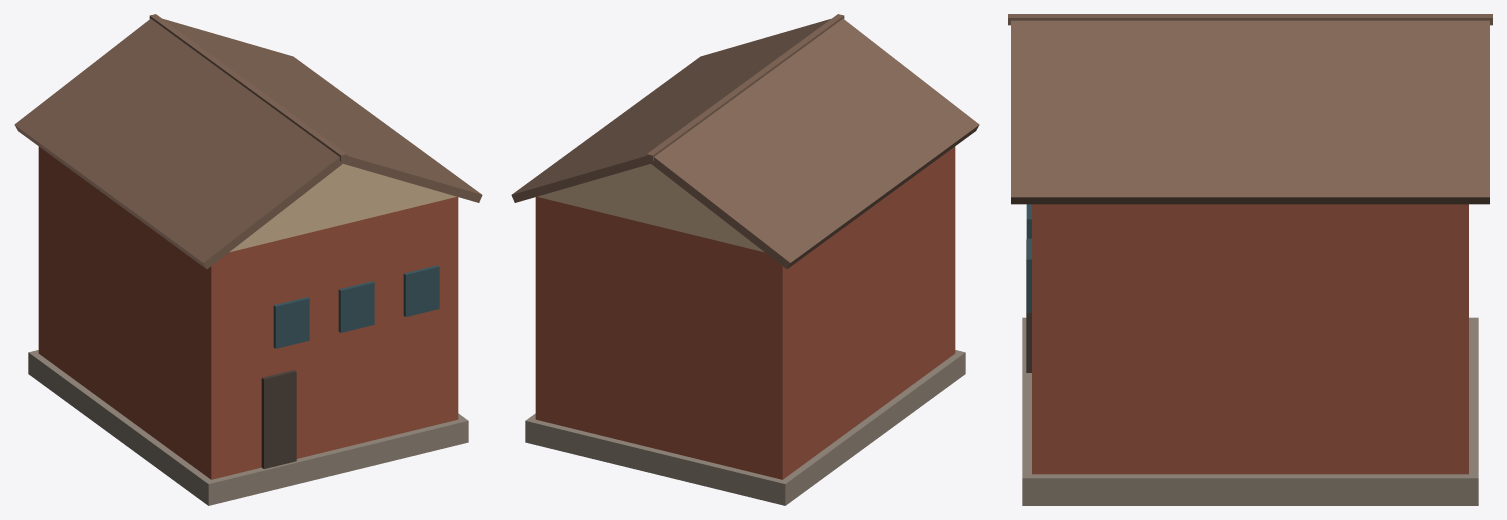
The model's file is arizona-brick-house_lod1.glb.
The picture shows the model from 3 angles, left to right: view 1: azimuth 30°, elevation 25°; view 2: azimuth 150°, elevation 25°; view 3: azimuth 270°, elevation 25°; orthographic projection. The views are drawn at different scales.
Parts seen in each view (by area): view 1: RF_AZ_Brick_Walls, RF_AZ_Brick_RoofLeft, RF_AZ_Brick_RoofRight, RF_AZ_Brick_Foundation, RF_AZ_Brick_Gable, RF_AZ_Brick_Door, RF_AZ_Brick_Ridge, RF_AZ_Brick_Window.001, RF_AZ_Brick_Window.002, RF_AZ_Brick_Window; view 2: RF_AZ_Brick_Walls, RF_AZ_Brick_RoofLeft, RF_AZ_Brick_RoofRight, RF_AZ_Brick_Foundation, RF_AZ_Brick_Gable.001, RF_AZ_Brick_Ridge; view 3: RF_AZ_Brick_Walls, RF_AZ_Brick_RoofRight, RF_AZ_Brick_Foundation, RF_AZ_Brick_Ridge.
Part boxes in pixels (x1,y1,x2,y2): RF_AZ_Brick_Walls: [38, 146, 458, 479]; RF_AZ_Brick_RoofLeft: [14, 19, 344, 268]; RF_AZ_Brick_RoofRight: [163, 19, 482, 202]; RF_AZ_Brick_Foundation: [28, 350, 468, 505]; RF_AZ_Brick_Gable: [229, 164, 456, 252]; RF_AZ_Brick_Door: [261, 370, 296, 468]; RF_AZ_Brick_Ridge: [149, 14, 347, 161]; RF_AZ_Brick_Window.001: [338, 281, 374, 332]; RF_AZ_Brick_Window.002: [403, 265, 439, 316]; RF_AZ_Brick_Window: [273, 297, 309, 348]; RF_AZ_Brick_Walls: [535, 146, 955, 479]; RF_AZ_Brick_RoofLeft: [649, 19, 979, 268]; RF_AZ_Brick_RoofRight: [511, 19, 830, 202]; RF_AZ_Brick_Foundation: [525, 350, 965, 505]; RF_AZ_Brick_Gable.001: [537, 164, 764, 252]; RF_AZ_Brick_Ridge: [646, 14, 844, 161]; RF_AZ_Brick_Walls: [1032, 204, 1468, 474]; RF_AZ_Brick_RoofRight: [1011, 20, 1489, 204]; RF_AZ_Brick_Foundation: [1022, 317, 1478, 505]; RF_AZ_Brick_Ridge: [1008, 14, 1492, 25].
Size of the model in its own units: 10.74 by 11.89 by 12.75.
